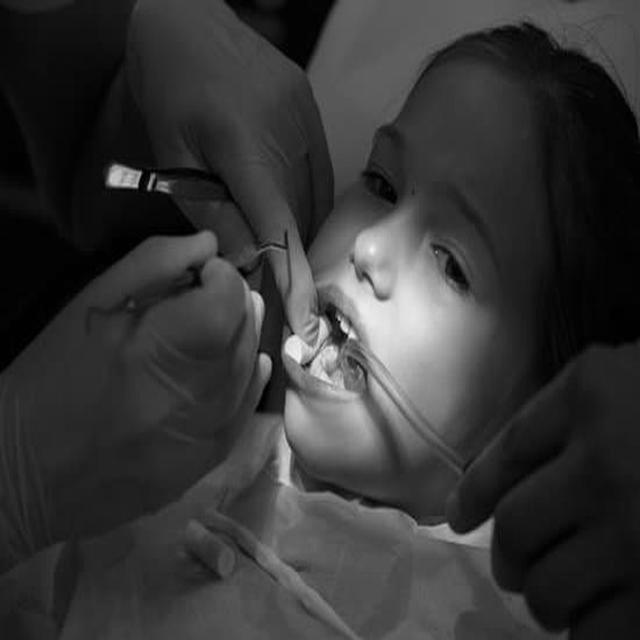Fear: (282, 64, 531, 487)
